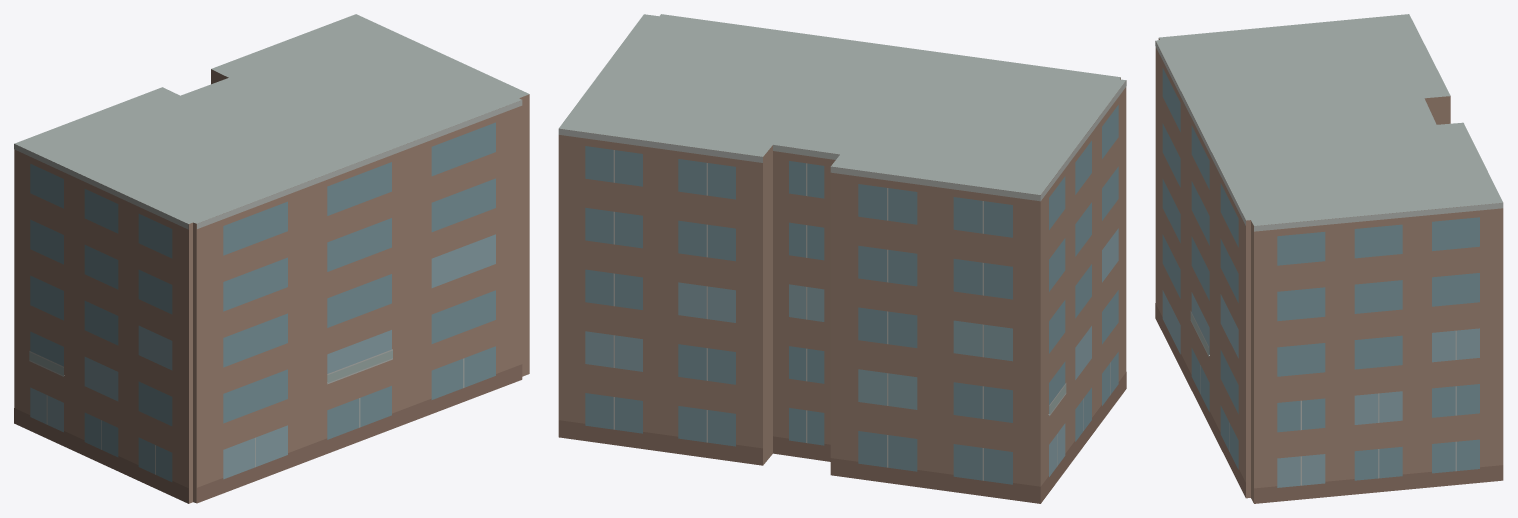
Rendered from survey-upis-32839493.glb.
3 renders of one model, left to right at view 1: azimuth 30°, elevation 25°; view 2: azimuth 150°, elevation 25°; view 3: azimuth 270°, elevation 25°, orthographic. The views are drawn at different scales.
Parts seen in each view (by area): view 1: survey-upis-32839493.tmp; view 2: survey-upis-32839493.tmp; view 3: survey-upis-32839493.tmp.
Boxes of the visible parts, <box> form: survey-upis-32839493.tmp: <box>14,14,529,503</box>; survey-upis-32839493.tmp: <box>558,14,1126,503</box>; survey-upis-32839493.tmp: <box>1155,14,1503,503</box>.
Bounding box in the file's own units: 19.98 × 12.2 × 13.85.
